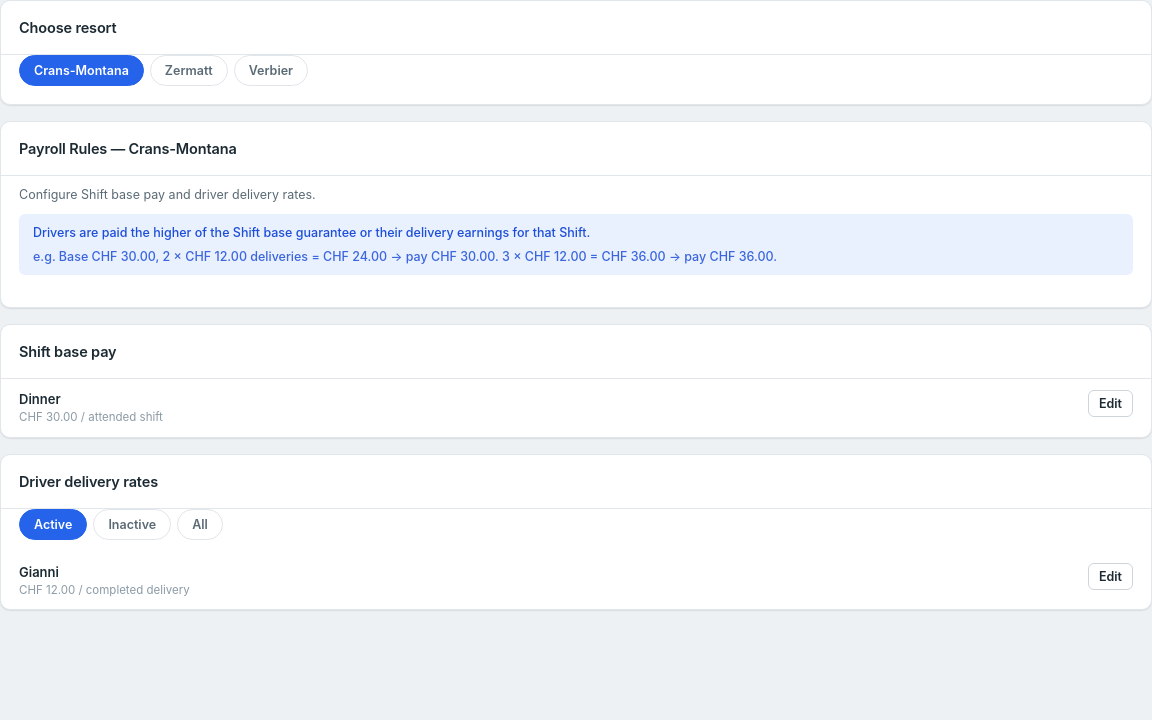
Test: PayrollRulesPanel: Driver delivery rates › 15/21. the initial Set Rate flow works, and no global CHF 12 assumption is made for a driver with no rule
The image size is (1152, 720).
Expected: the text "Dinner" is shown, 19,391 -> 60,407
Click the tab "Zermatt" at [189, 70], box 150,55 -> 228,86
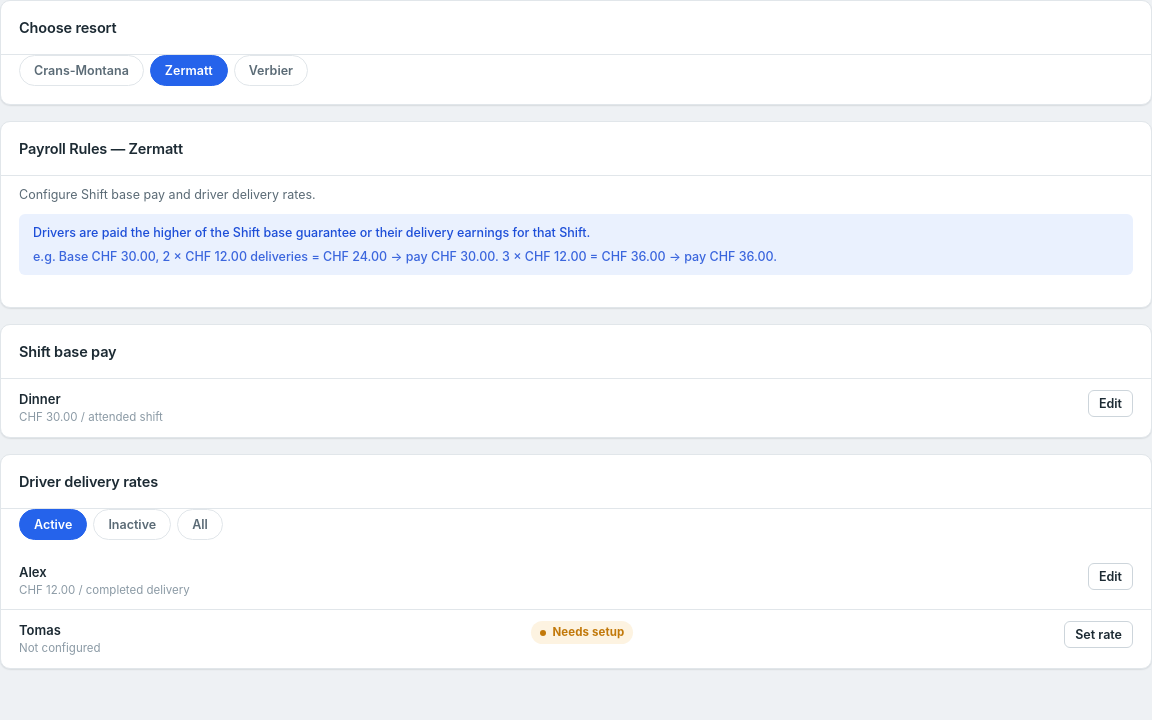
Expected: the text "Alex" is shown, 19,564 -> 47,580
Expected: the text "Tomas" is shown, 19,622 -> 61,638
Expected: the text "Not configured" is shown, 19,640 -> 101,657
Click the button "Set rate" at [1099, 635], box 1064,621 -> 1133,648
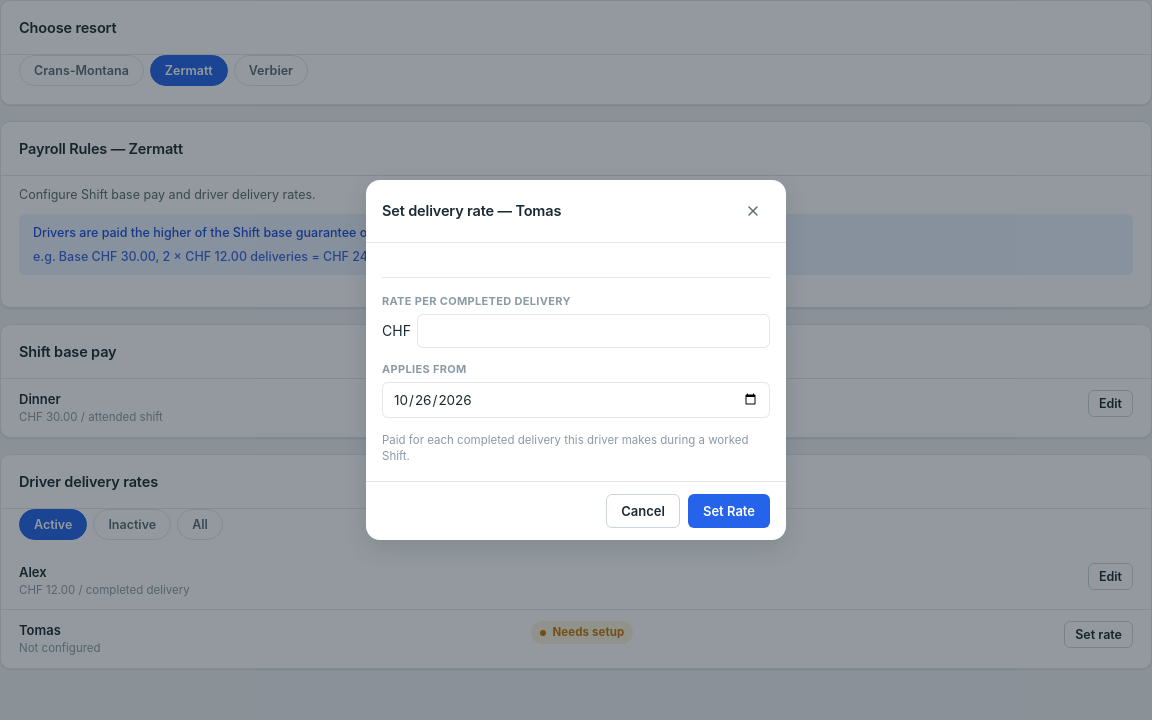
Expected: the heading "Set delivery rate — Tomas" is shown, 382,200 -> 561,221
Type "14" into the number field labelled "Rate per completed delivery" at [593, 331], box 417,314 -> 770,348
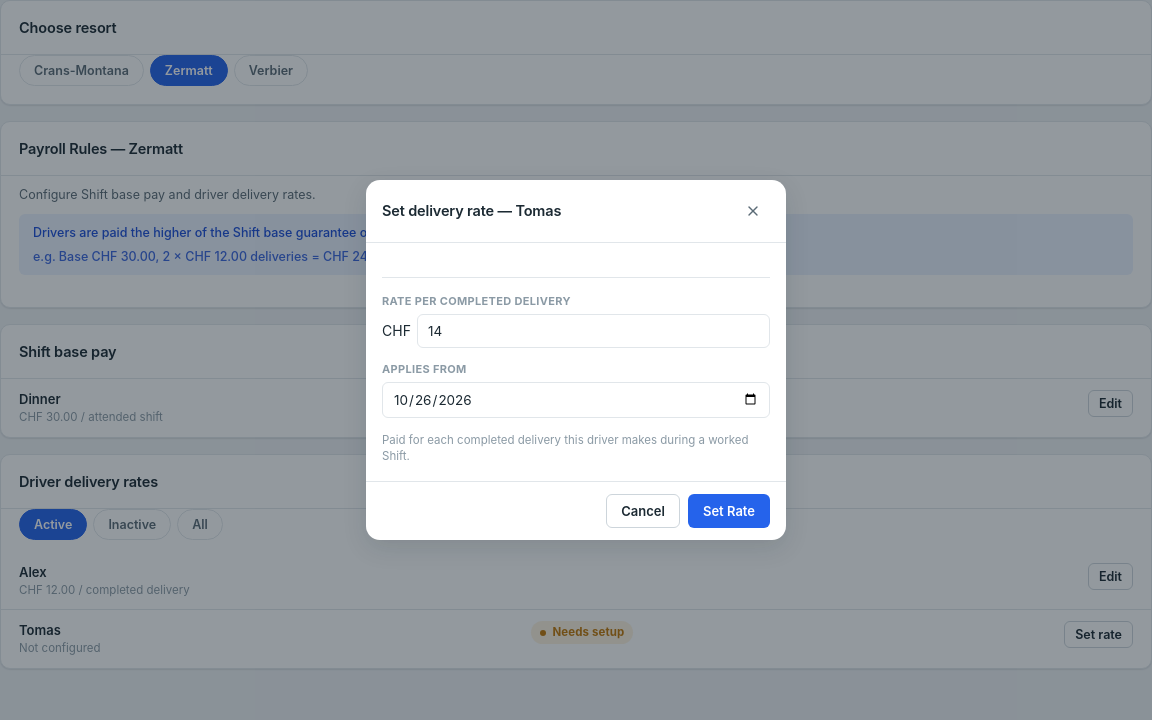
Click the button "Set Rate" at [729, 511], box 688,494 -> 770,528
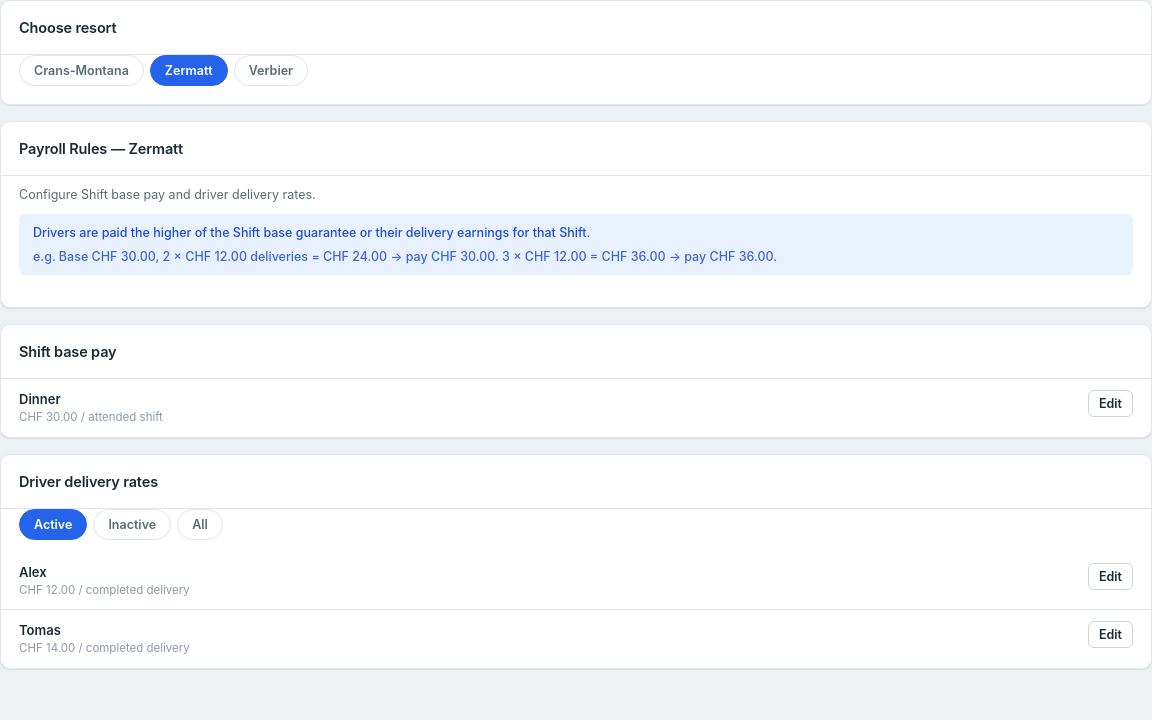
Expected: the text "CHF 14.00 / completed delivery" is shown, 19,640 -> 190,657
